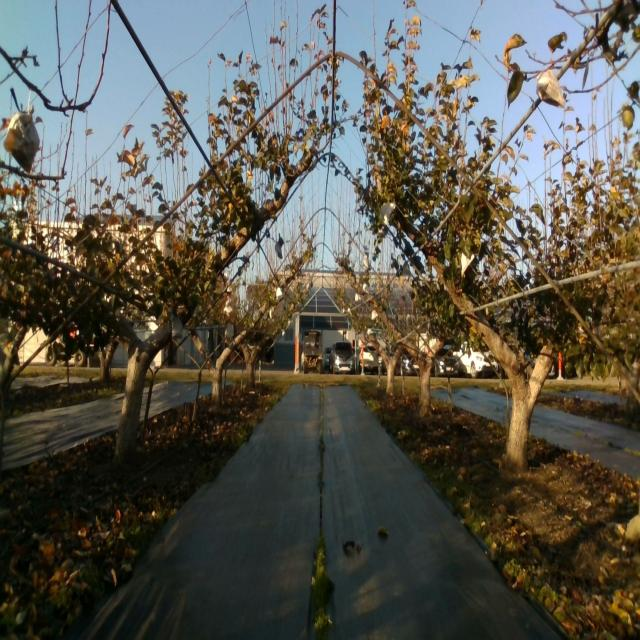pearbags: (3, 104, 40, 173), (535, 68, 565, 110), (381, 202, 396, 225), (172, 318, 183, 339)
